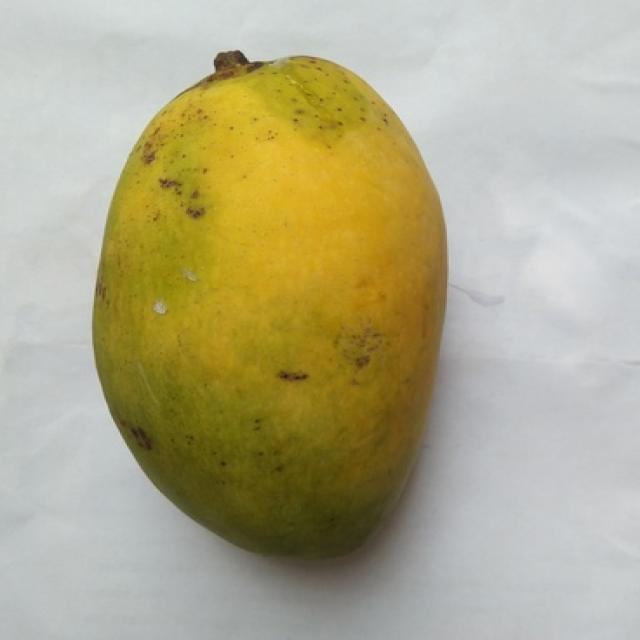Mango: (94, 53, 445, 556)
